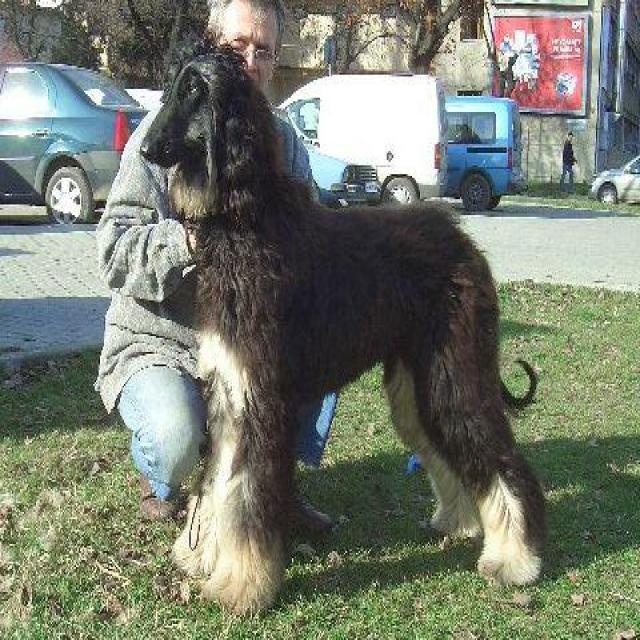afghan_hound: (136, 41, 551, 610)
